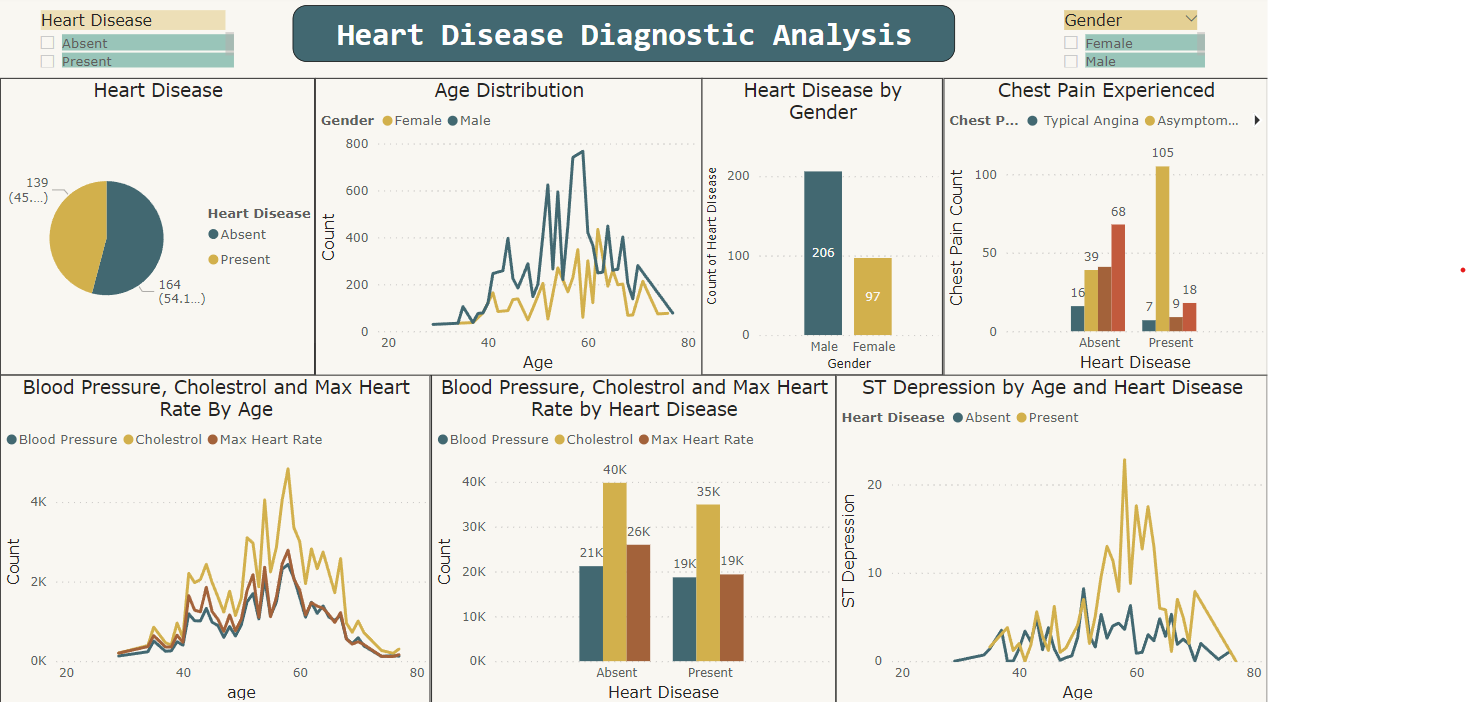

This screenshot's page, from the dashboard's own definition file:
{"tool":"powerbi","page":{"name":"Dashboard","canvas":[1280,720],"ordinal":0},"visuals":[{"type":"columnChart","title":"Heart Disease by Gender","fields":{"Category":["heart_disease_dataset.Gender"],"Y":["CountNonNull(heart_disease_dataset.Heart Disease)"],"Series":["heart_disease_dataset.Gender"]},"box":[708.1,84.8,243.6,299.7],"z":0},{"type":"pieChart","title":"Heart Disease","fields":{"Y":["CountNonNull(heart_disease_dataset.Heart Disease)"],"Category":["heart_disease_dataset.Heart Disease"]},"box":[0,84.8,317.6,299.7],"z":1000},{"type":"lineChart","title":"Age Distribution","fields":{"Category":["heart_disease_dataset.age"],"Y":["Sum(heart_disease_dataset.age)"],"Series":["heart_disease_dataset.Gender"]},"box":[317.6,84.8,390.4,300.9],"z":2000},{"type":"clusteredColumnChart","title":"Chest Pain Experienced","fields":{"Category":["heart_disease_dataset.Heart Disease"],"Y":["CountNonNull(heart_disease_dataset.chest pain)"],"Series":["heart_disease_dataset.chest pain"]},"box":[951.6,84.8,327.2,300.9],"z":3000},{"type":"lineChart","title":"Blood Pressure, Cholestrol and Max Heart Rate By Age","fields":{"Y":["Sum(heart_disease_dataset.Blood Pressure)","Sum(heart_disease_dataset.chol)","Sum(heart_disease_dataset.thalach)"],"Category":["heart_disease_dataset.age"]},"box":[0,384.5,434.6,334.3],"z":4000},{"type":"clusteredColumnChart","title":"Blood Pressure, Cholestrol and Max Heart Rate by Heart Disease","fields":{"Category":["heart_disease_dataset.Heart Disease"],"Y":["Sum(heart_disease_dataset.trestbps)","Sum(heart_disease_dataset.chol)","Sum(heart_disease_dataset.thalach)"]},"box":[434.6,384.5,408.4,334.3],"z":5000},{"type":"lineChart","title":"ST Depression by Age and Heart Disease","fields":{"Category":["heart_disease_dataset.age"],"Series":["heart_disease_dataset.Heart Disease"],"Y":["Sum(heart_disease_dataset.oldpeak)"]},"box":[843,384.5,435.8,334.3],"z":6000},{"type":"slicer","fields":{"Values":["heart_disease_dataset.Gender"]},"box":[1061.5,10.7,160,68.1],"z":7000},{"type":"slicer","fields":{"Values":["heart_disease_dataset.Heart Disease"]},"box":[28.7,10.7,212.5,68.1],"z":8000},{"type":"textbox","box":[294.9,10.7,668.7,57.3],"z":9000}]}

Visuals, with their boxes in screenshot pixels (x1, y1, x2, y2):
"Heart Disease by Gender" columnChart: x1=699, y1=77, x2=942, y2=376
"Heart Disease" pieChart: x1=0, y1=77, x2=309, y2=376
"Age Distribution" lineChart: x1=309, y1=77, x2=699, y2=377
"Chest Pain Experienced" clusteredColumnChart: x1=942, y1=77, x2=1268, y2=377
"Blood Pressure, Cholestrol and Max Heart Rate By Age" lineChart: x1=0, y1=376, x2=426, y2=701
"Blood Pressure, Cholestrol and Max Heart Rate by Heart Disease" clusteredColumnChart: x1=426, y1=376, x2=833, y2=701
"ST Depression by Age and Heart Disease" lineChart: x1=833, y1=376, x2=1268, y2=701
slicer - heart_disease_dataset.Gender: x1=1051, y1=3, x2=1211, y2=71
slicer - heart_disease_dataset.Heart Disease: x1=21, y1=3, x2=233, y2=71
textbox: x1=287, y1=3, x2=954, y2=60
